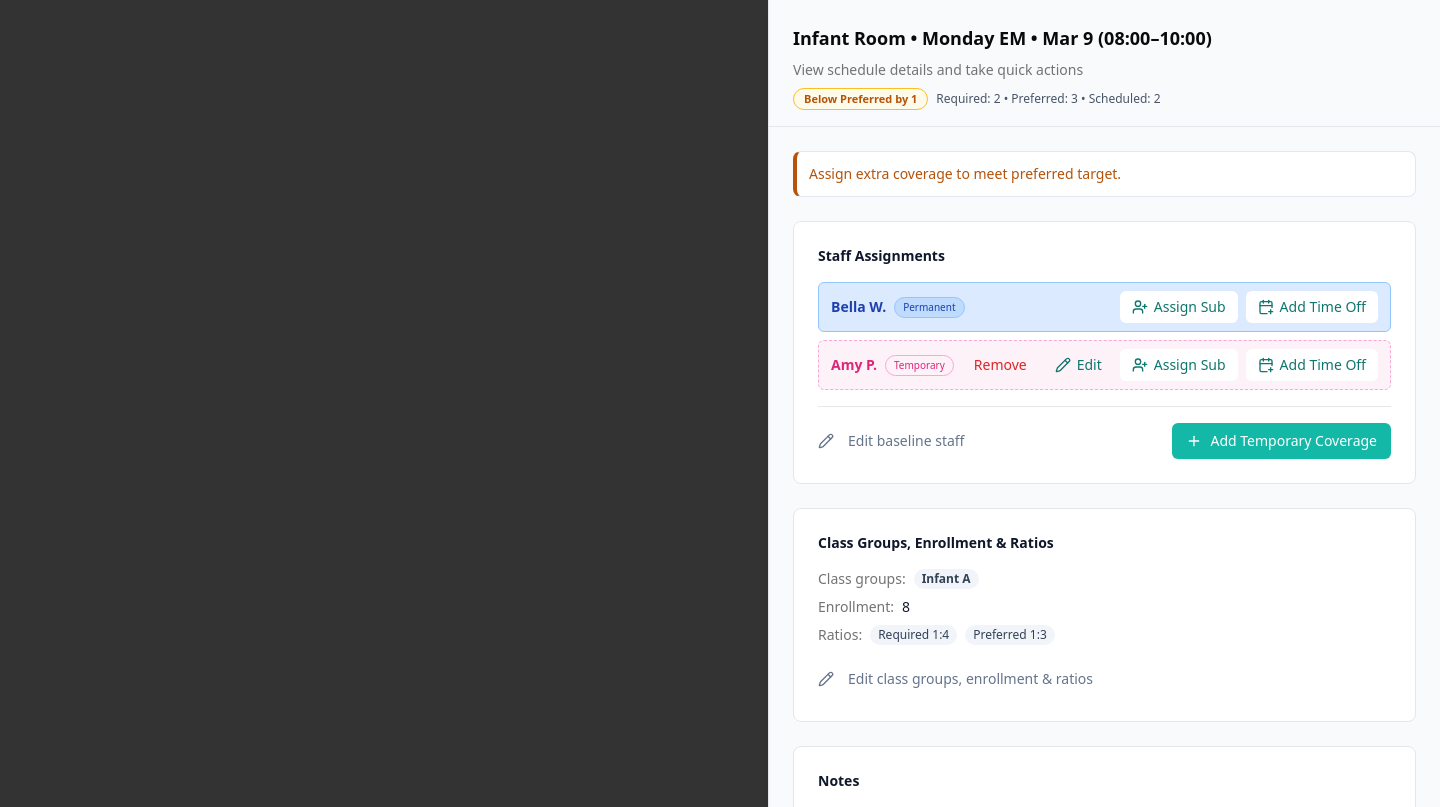
ScheduleSidePanel - Add Temporary Coverage › from weekly: fetches slot-run and shows Summary when slot is below target
Expected: the text "Bella W." is shown, left=831, top=297, right=886, bottom=317
Click the button "Add Temporary Coverage".
click(1282, 441)  # box left=1172, top=423, right=1391, bottom=459
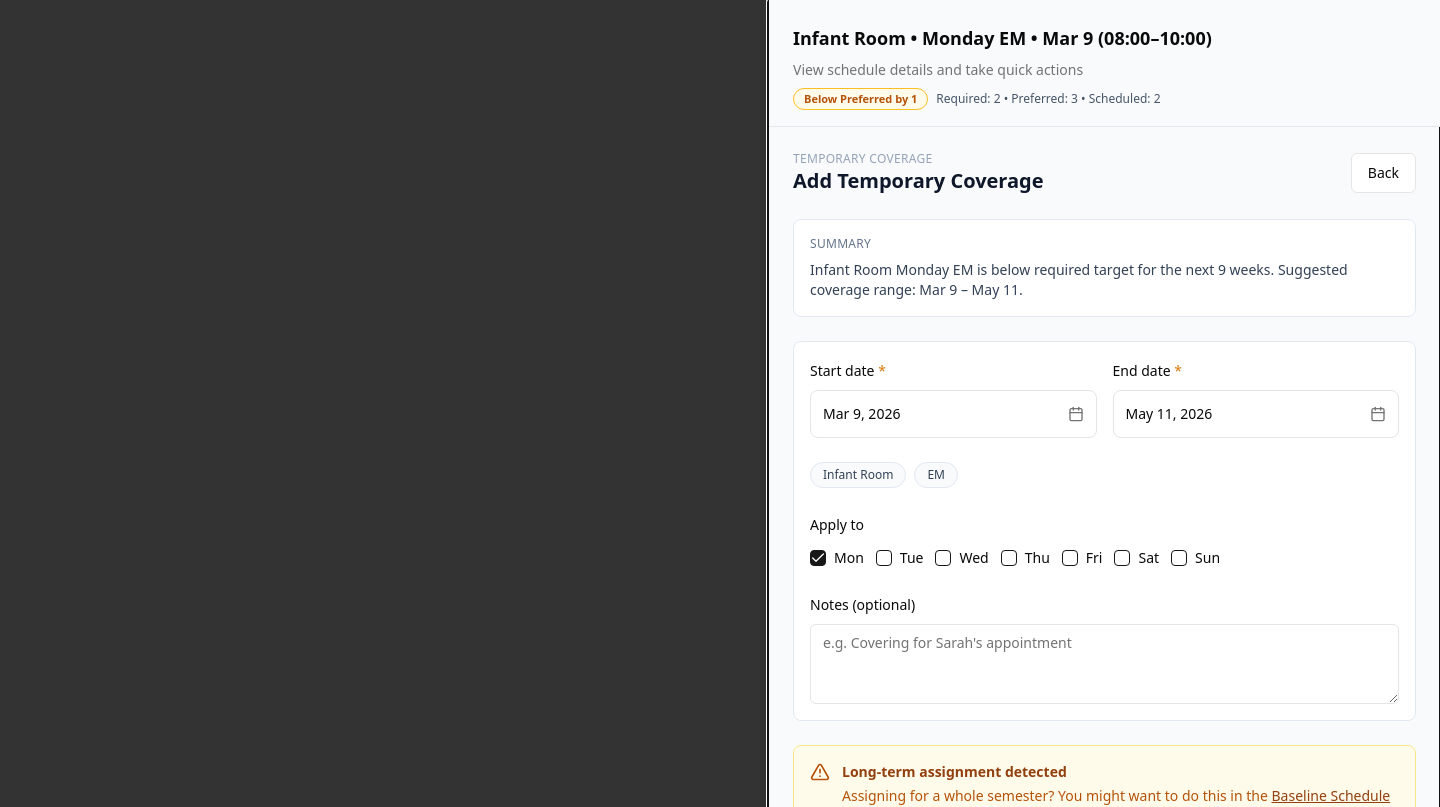
Result: the text "Summary" is shown at left=810, top=235, right=871, bottom=252
Result: the text "Suggested coverage range: Mar 9 – May 11" is shown at left=810, top=260, right=1399, bottom=300
